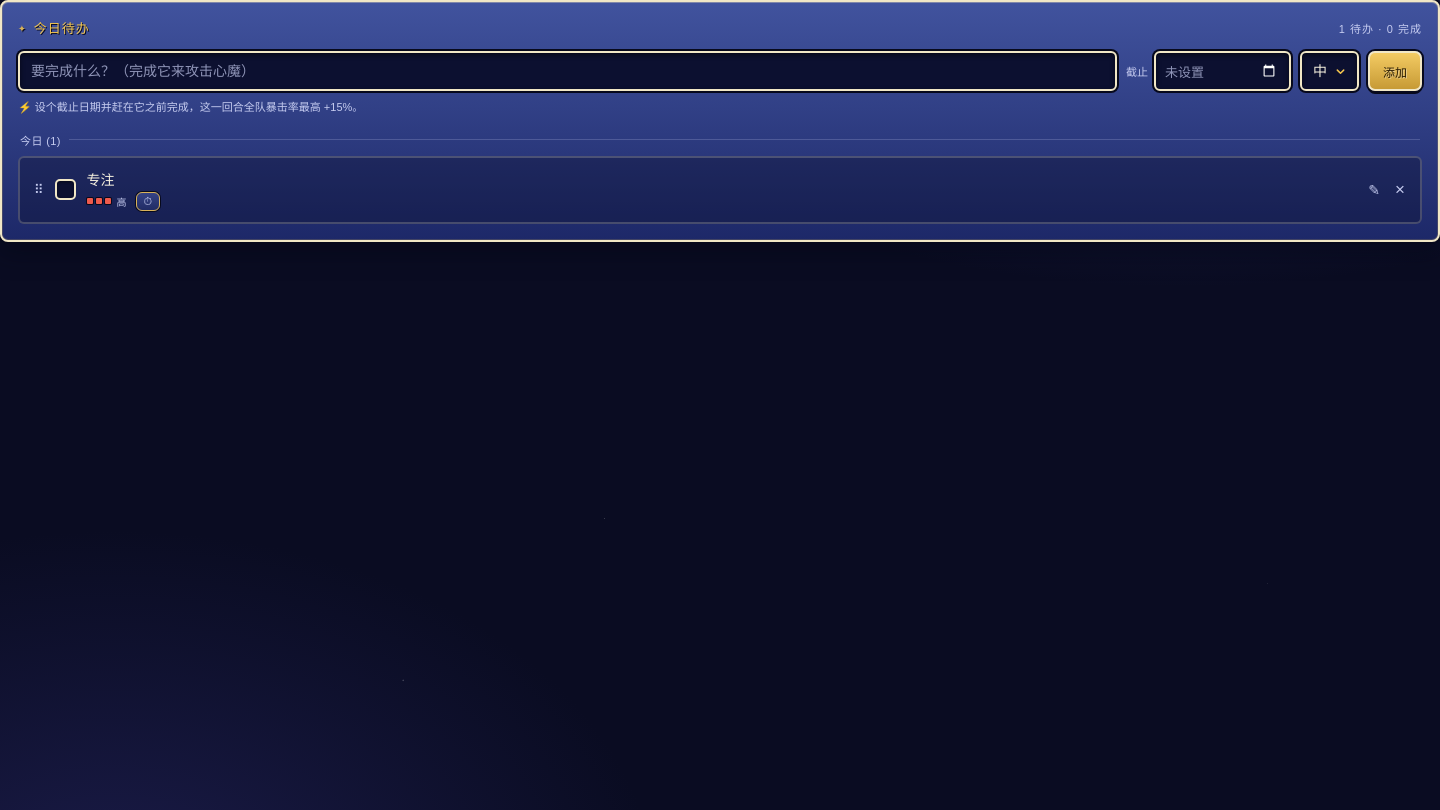
Test: TodoPanel — countdown timer › opens the dropdown and arms a countdown from a preset
Step 1. Click the button named "设定限时" → (148, 201), box x1=136 y1=192 x2=160 y2=210
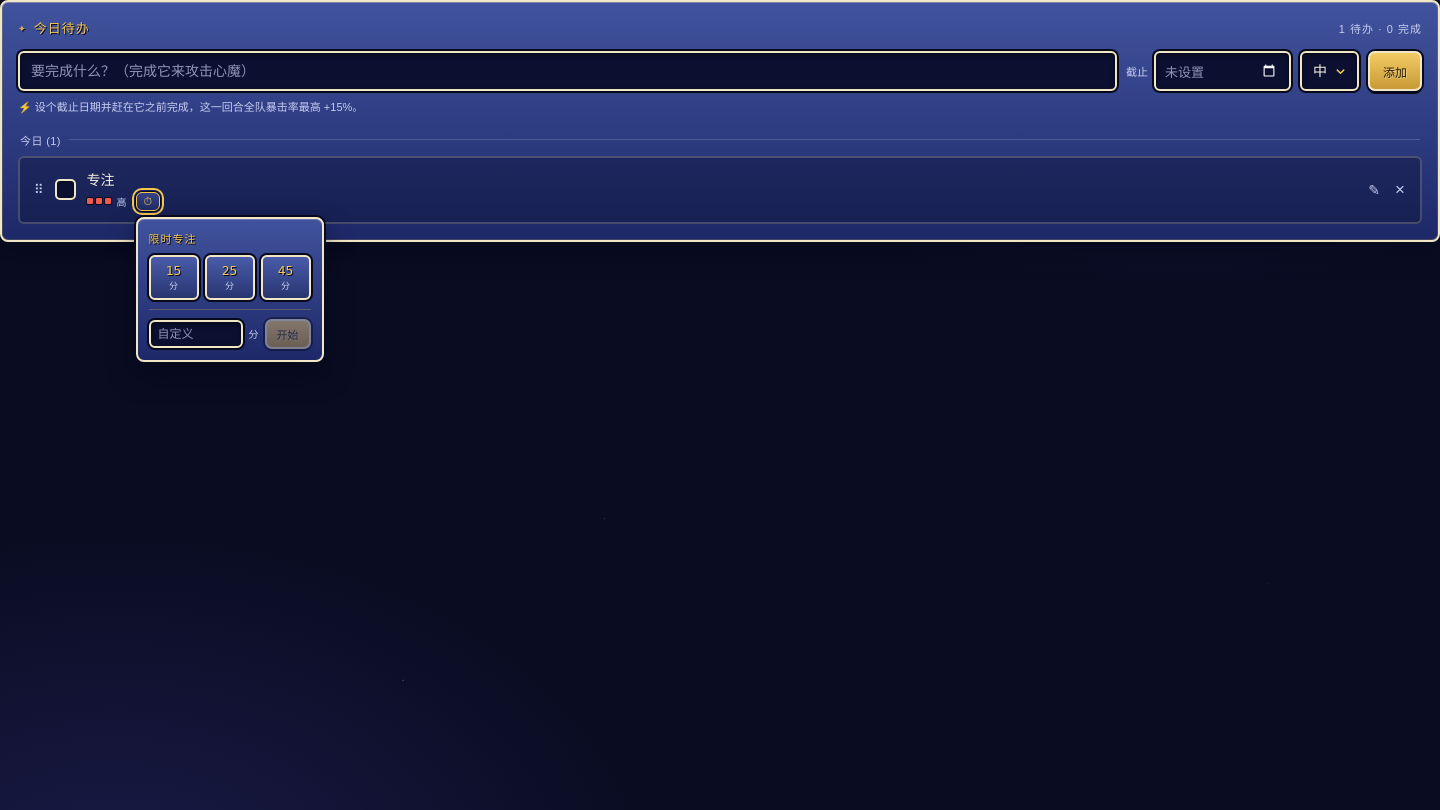
Step 2. Click the menu item named "开始 25 分钟倒计时" → (230, 277), box x1=204 y1=254 x2=254 y2=300
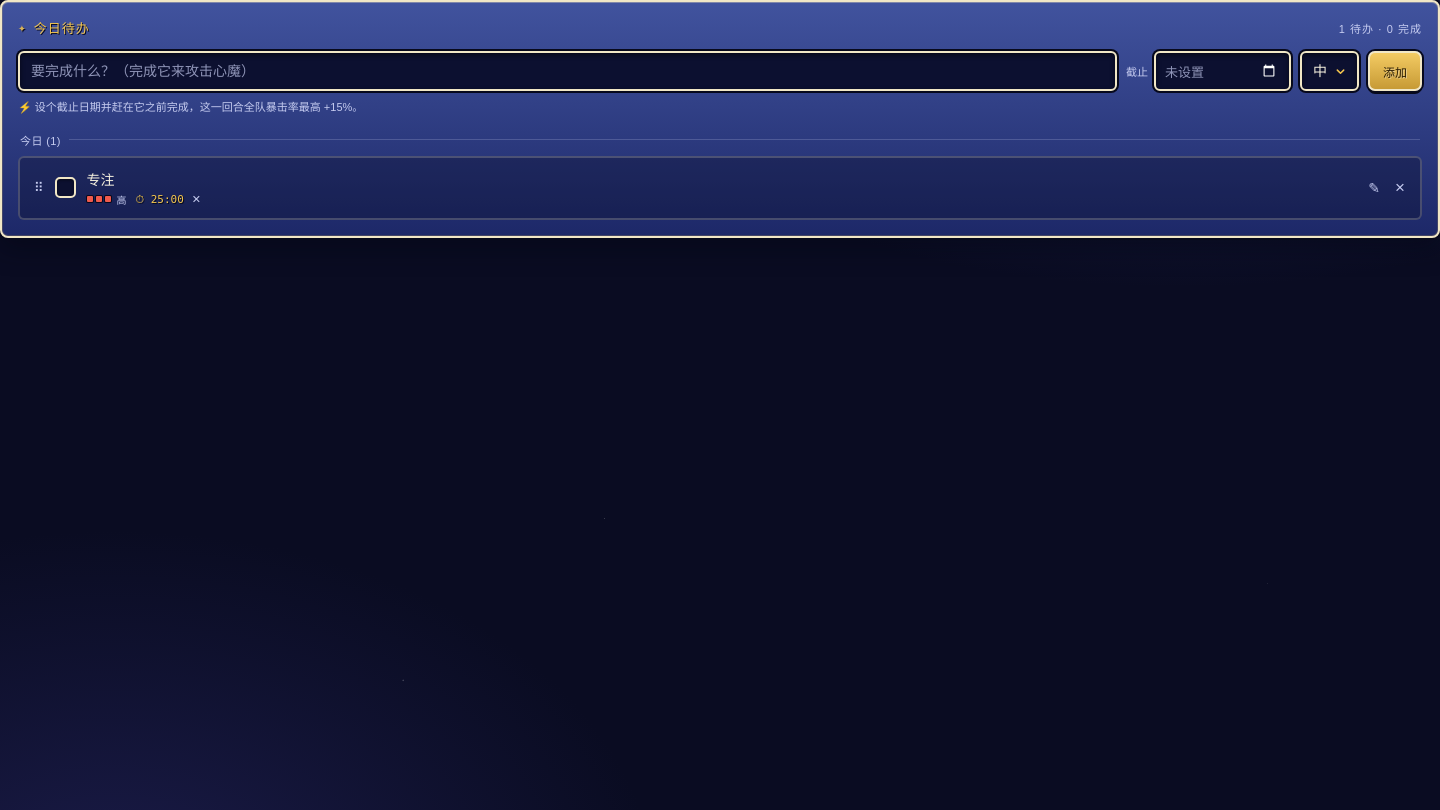
Expected: the button named "取消倒计时" is shown, x1=189 y1=194 x2=204 y2=204
